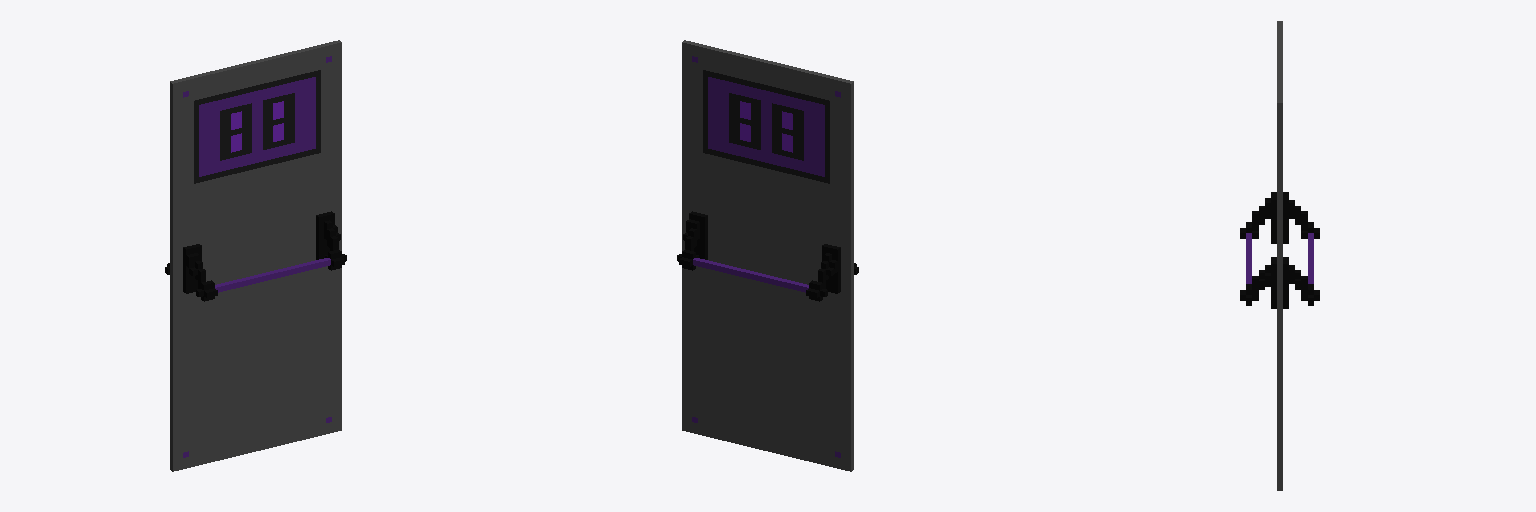
3 views of the same model, side by side, from view 1: azimuth 30°, elevation 25°; view 2: azimuth 150°, elevation 25°; view 3: azimuth 270°, elevation 25° (orthographic).
Parts seen in each view (by area): view 1: object 1; view 2: object 1; view 3: object 1.
Boxes of the visible parts, <box> form: object 1: <box>165,40,346,471</box>; object 1: <box>677,40,858,471</box>; object 1: <box>1240,21,1319,490</box>.
Size of the model in its own units: 3.2 by 7 by 1.3.
1 materials, 1 textured.